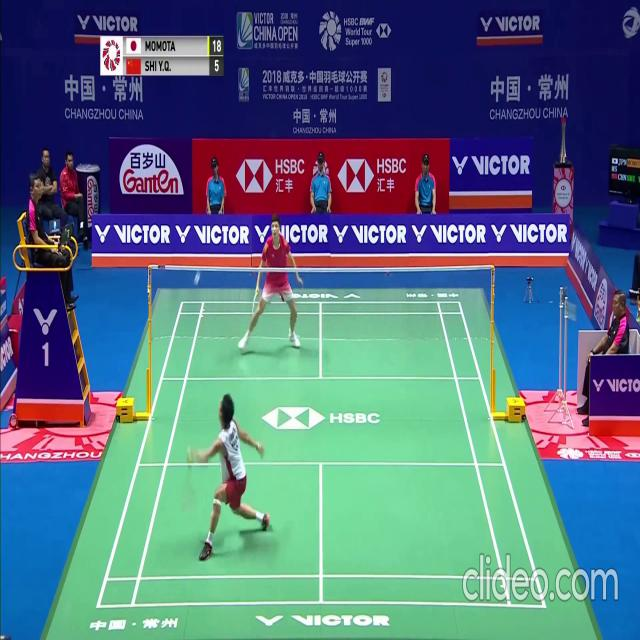Shuttlecock: (194, 272, 199, 279)
